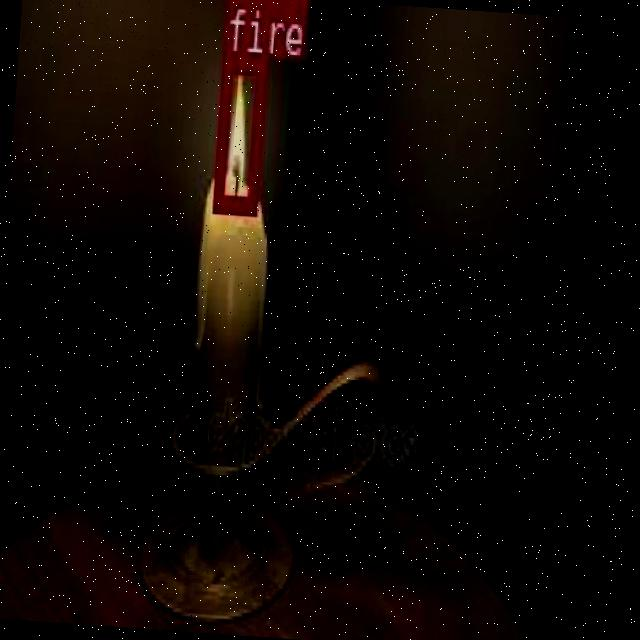fire: (210, 51, 264, 210)
